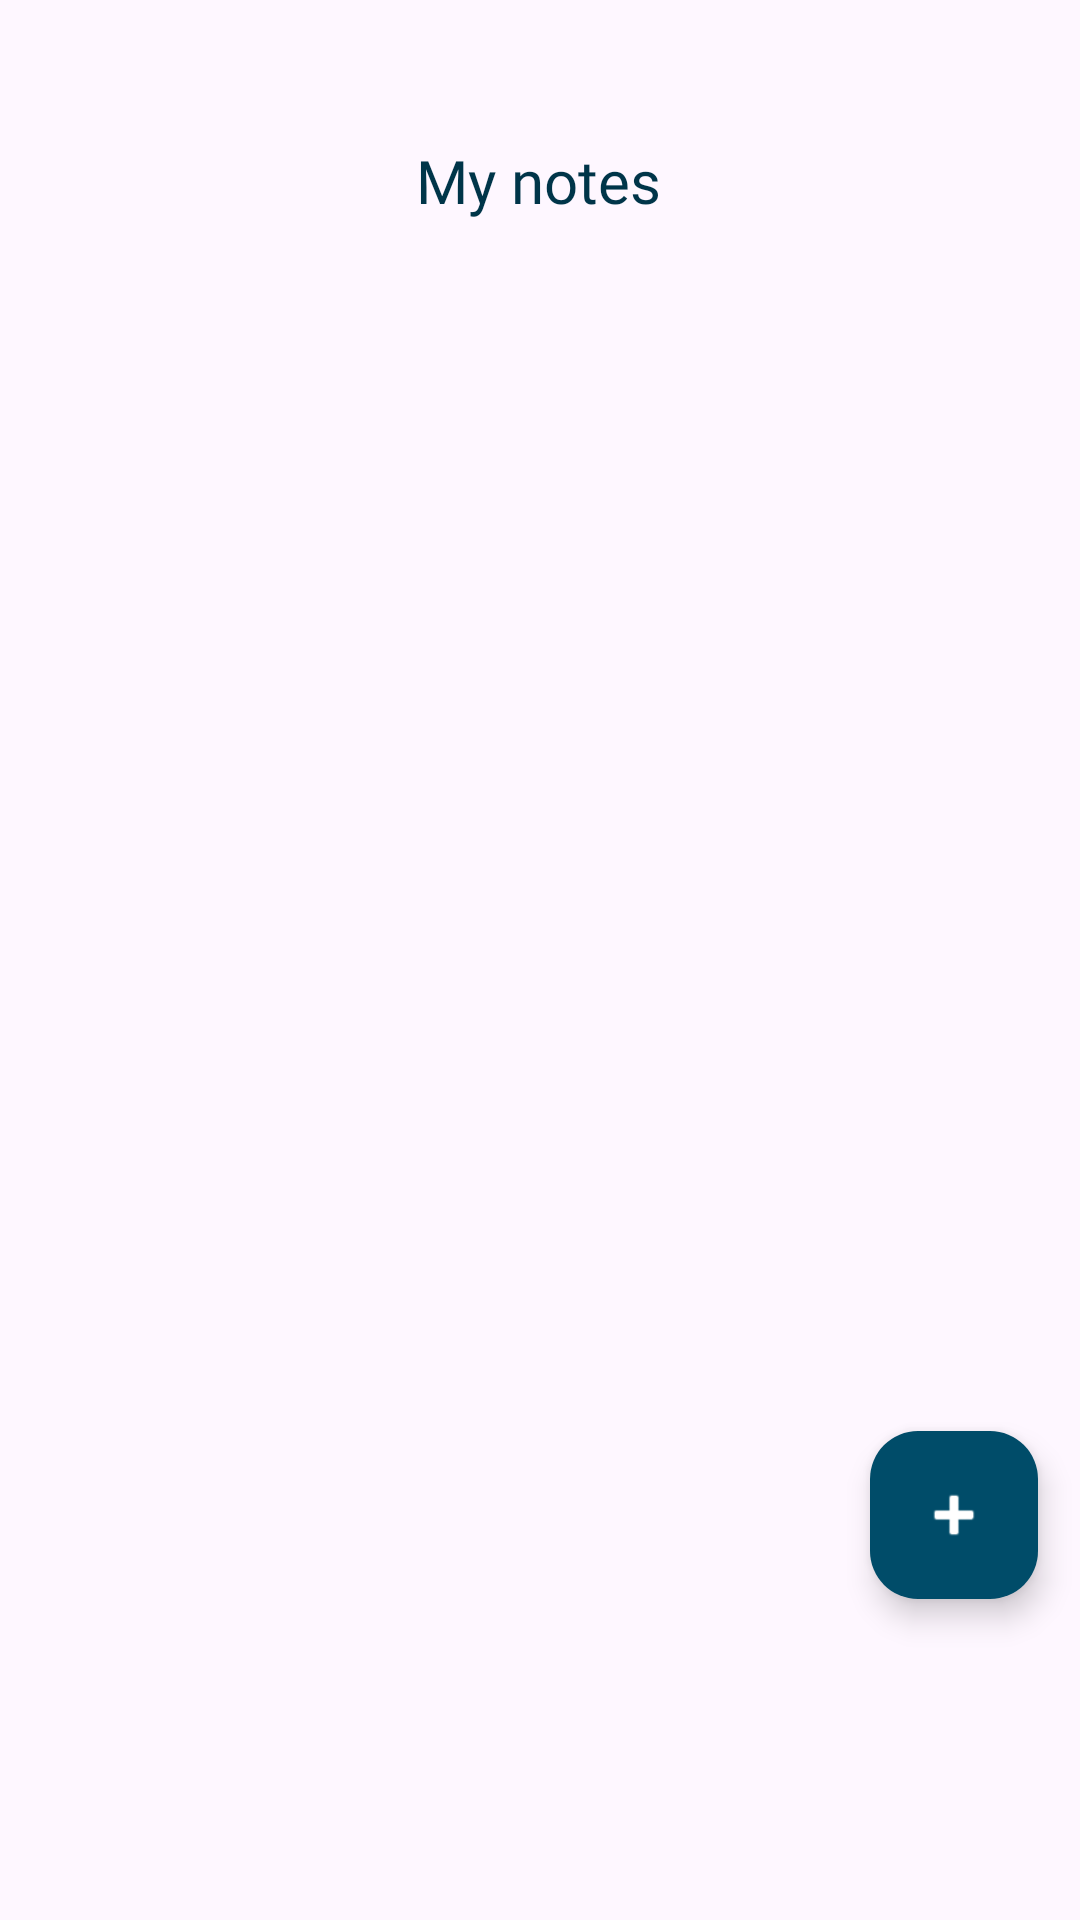

Locate icon controls on the screen. Image size 1080w x 1920h, boxes as (x1, y1, x2, y2).
New: (870, 1431, 1038, 1599)
